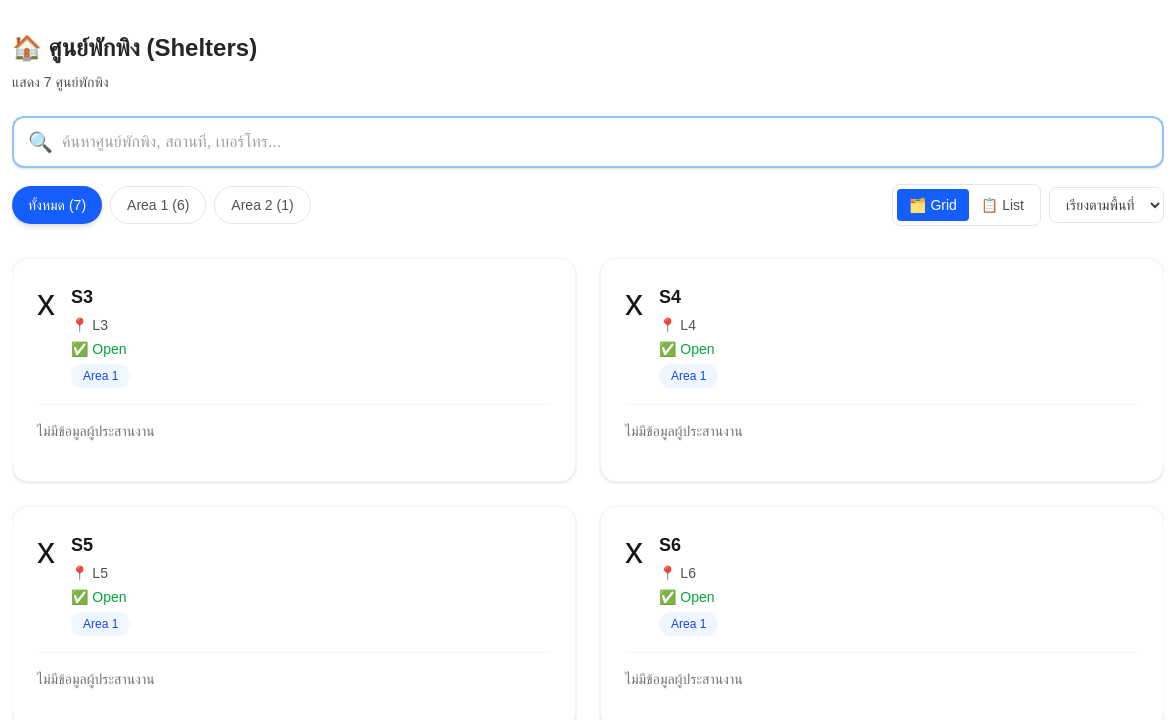
Test case: SheltersSection › shows no results state and clears it
This screenshot has width=1176, height=720.
Type "NonExistent" into the field with placeholder "ค้นหาศูนย์พักพิง, สถานที่, เบอร์โทร..." at (588,142), box [12, 116, 1164, 168]
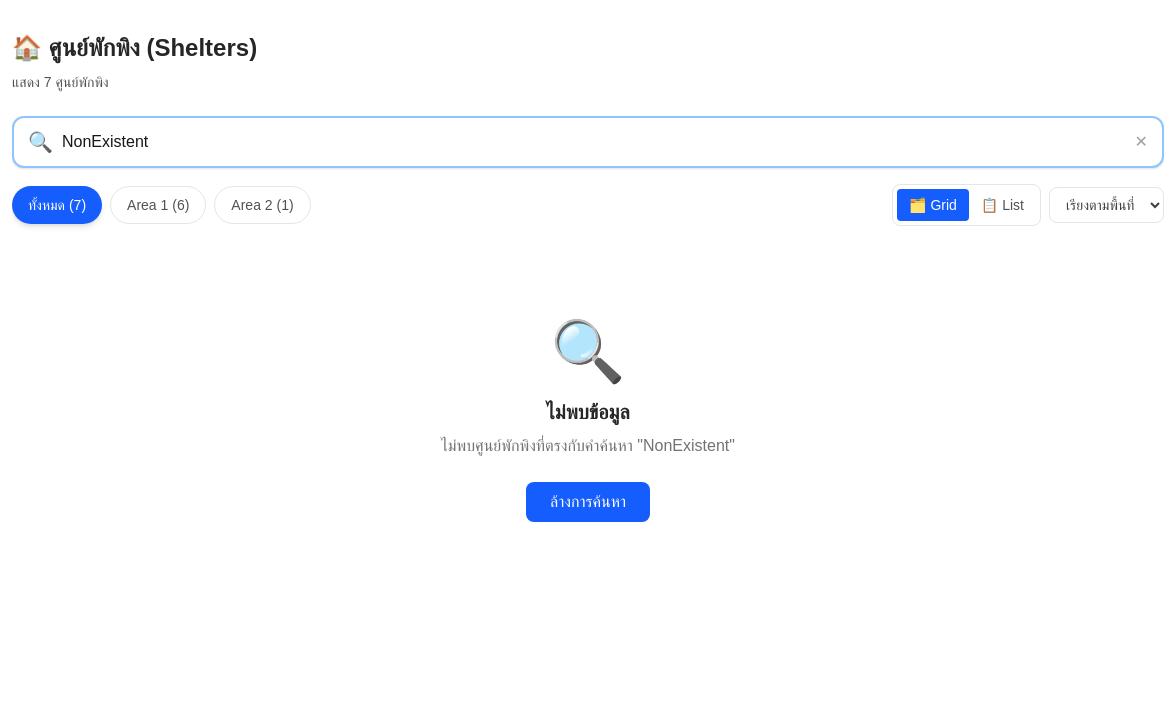
Now the heading "ไม่พบข้อมูล" is shown, box [546, 398, 630, 426]
Click the button "ล้างการค้นหา" at (588,502), box [526, 482, 650, 522]
(page scrolled)
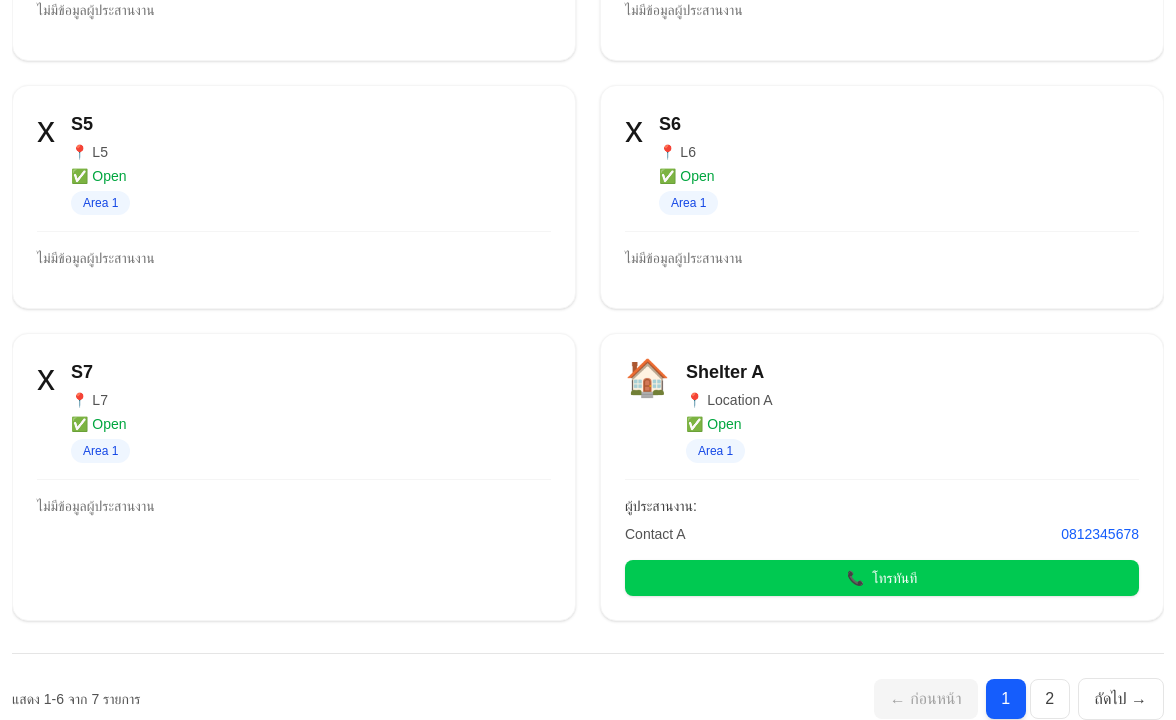
Now the heading "ไม่พบข้อมูล" is gone
Now the heading "Shelter A" is shown, box [686, 362, 764, 382]
